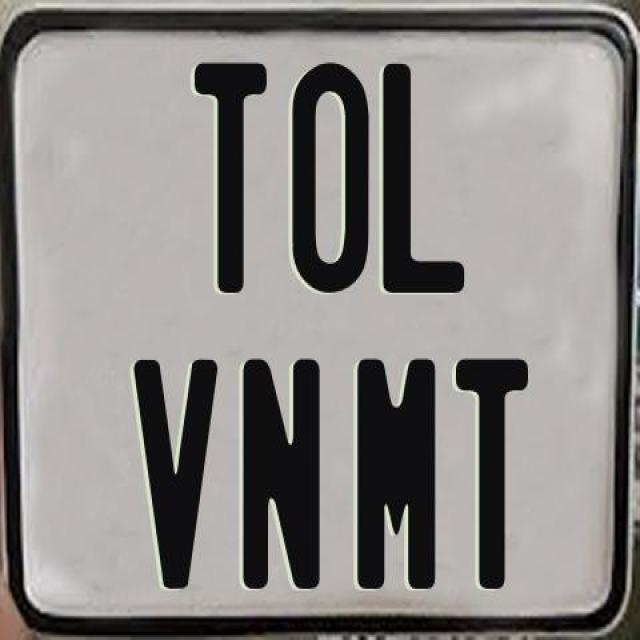0: (291, 58, 375, 290)
L: (383, 59, 467, 288)
M: (353, 359, 431, 599)
N: (243, 354, 329, 586)
T: (191, 58, 265, 293), (453, 358, 527, 588)
V: (132, 359, 224, 591)
